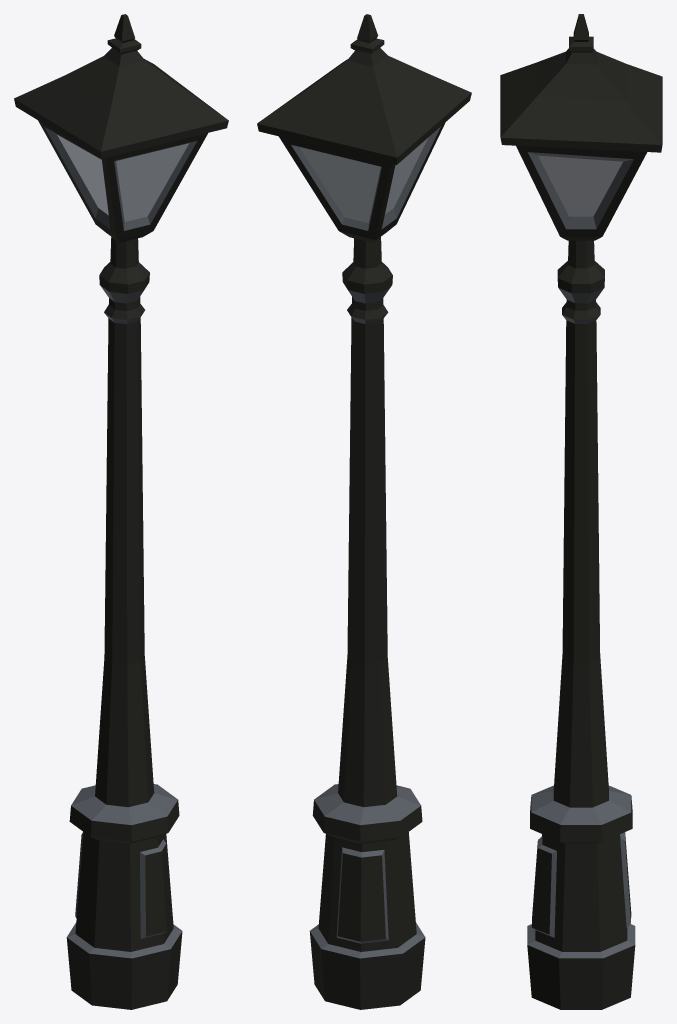
Rendered from Hunterian_LampPost.fbx.
The picture shows the model from 3 angles, left to right: view 1: azimuth 30°, elevation 25°; view 2: azimuth 150°, elevation 25°; view 3: azimuth 270°, elevation 25°; orthographic projection.
Parts seen in each view (by area): view 1: Cube; view 2: Cube; view 3: Cube.
Part boxes in pixels (x1,y1,x2,y2): Cube: (14, 14, 228, 1009); Cube: (257, 14, 471, 1009); Cube: (500, 14, 662, 1009).
Size of the model in its own units: 0.6293 by 4.17 by 0.6284.
